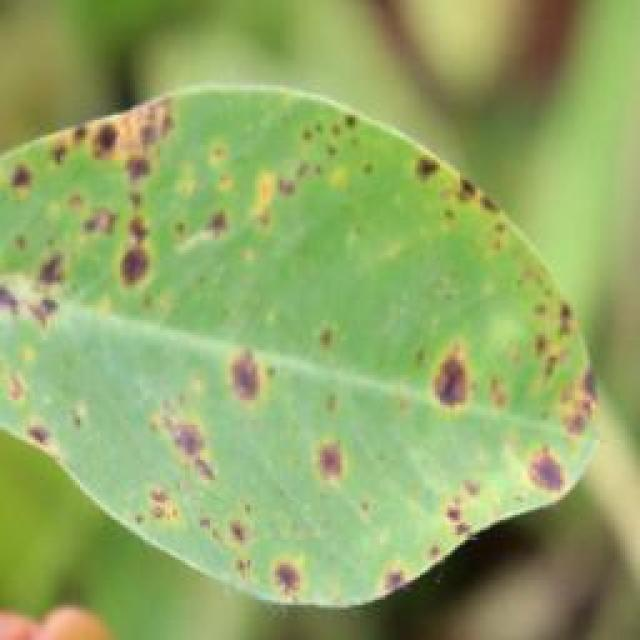Yellowish: (0, 8, 620, 596)
